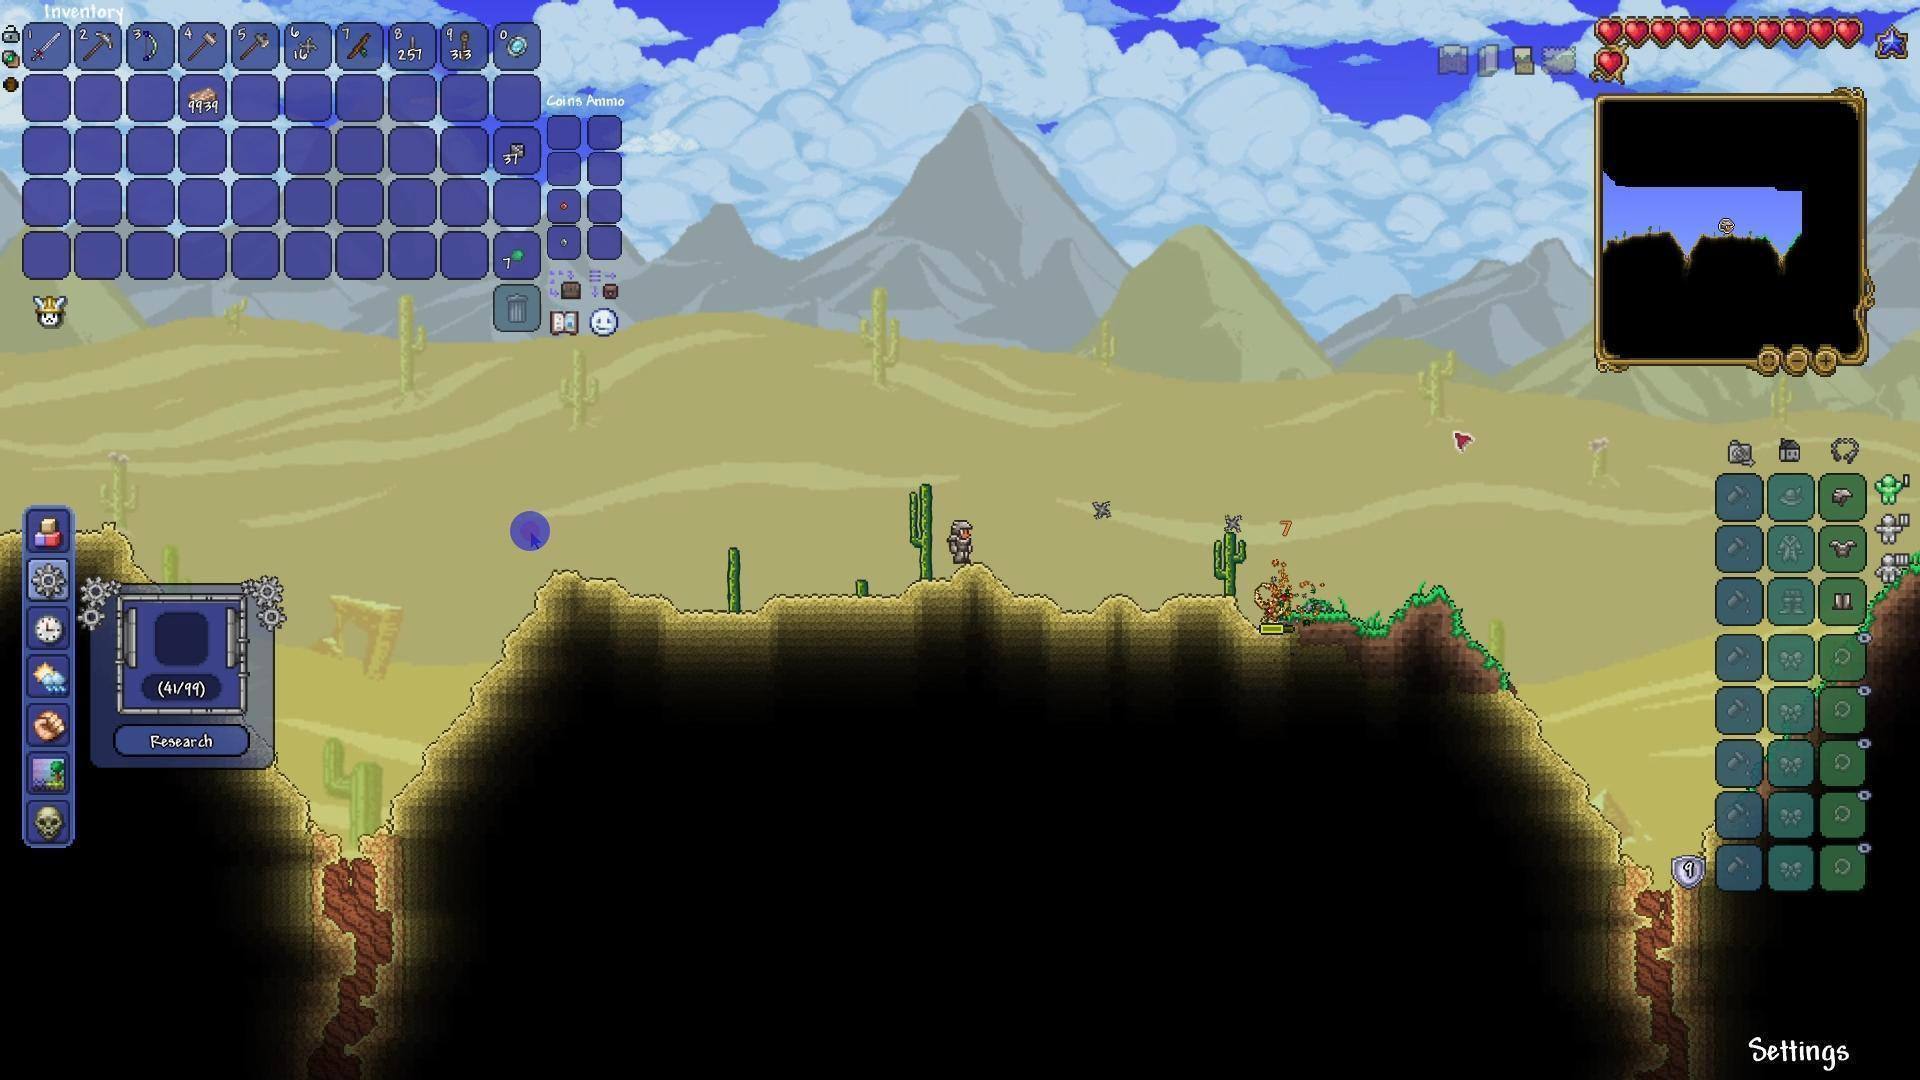bow: (124, 20, 178, 75)
breastplate: (1829, 538, 1857, 559)
helmet: (1829, 487, 1855, 508)
legs: (1830, 591, 1855, 613)
sword: (22, 18, 75, 74)
